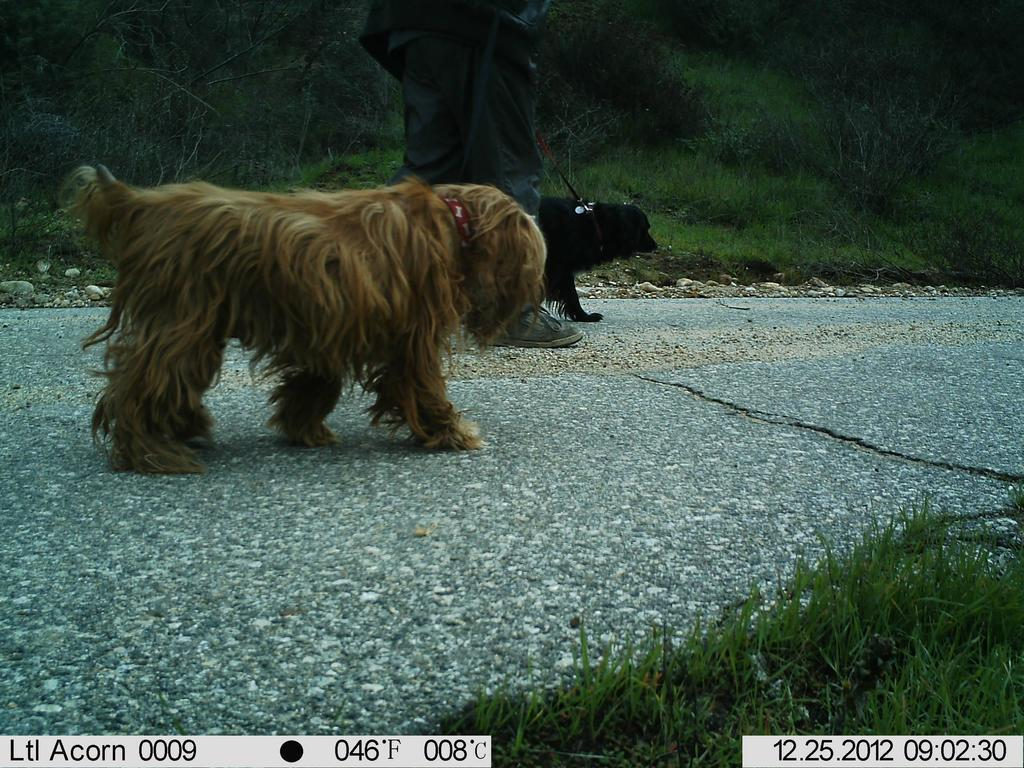dog: (57, 159, 551, 469), (516, 186, 665, 333)
